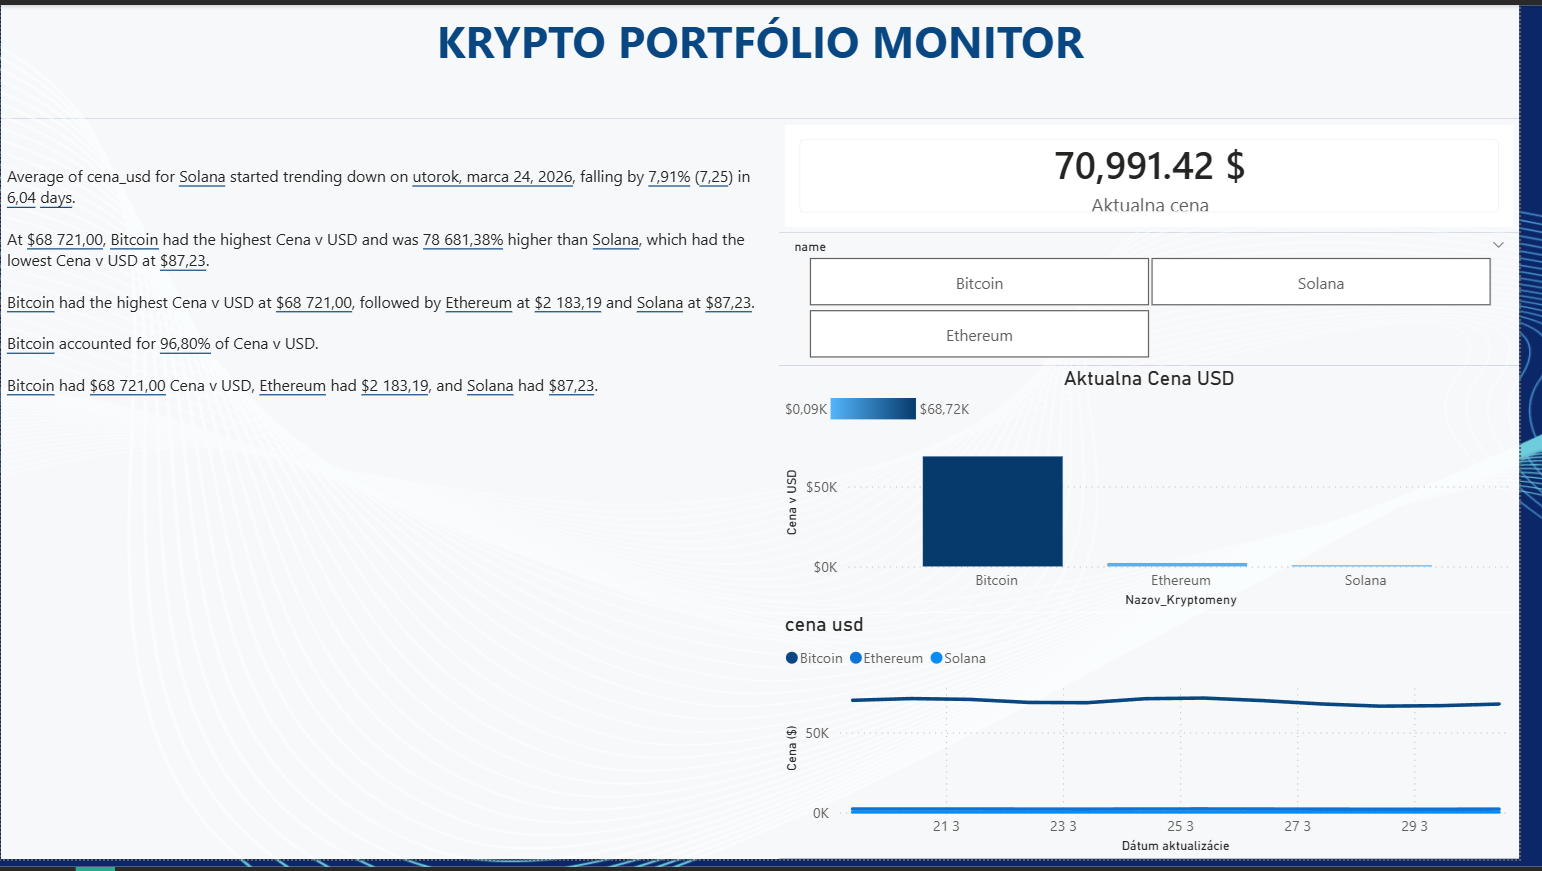

What the dashboard file says about the page in this screenshot:
{"tool":"powerbi","page":{"name":"Page 1","canvas":[1280,720],"ordinal":0},"visuals":[{"type":"clusteredColumnChart","title":"Aktualna Cena USD","fields":{"Category":["vw_gold_aktualne_ceny.Nazov_Kryptomeny"],"Y":["Sum(vw_gold_aktualne_ceny.Aktualna_Cena_USD)"]},"box":[656,304,624,208],"z":0},{"type":"lineChart","title":"cena usd ","fields":{"Y":["Avg(CryptoPrices.cena_usd)"],"Series":["CryptoPrices.name"],"Category":["CryptoPrices.cas_aktualizacie_api"]},"box":[656,512,624,208],"z":1000},{"type":"slicer","fields":{"Values":["CryptoPrices.name"]},"box":[656,192,624,112],"z":2000},{"type":"cardVisual","fields":{"Data":["CryptoPrices.Cena_Text"]},"box":[656,96,624,96],"z":3000},{"type":"textbox","box":[0,0,1280,96],"z":4000},{"type":"textbox","box":[0,96,656,624],"z":5000}]}

Visuals, with their boxes on the page's 1280x720 design canvas (x1, y1, x2, y2). These are canvas units, not pixel positions in the 1542x871 screenshot, which may show the page scaled, cropped or inside an application window:
"Aktualna Cena USD" clusteredColumnChart: rect(656, 304, 1280, 512)
"cena usd " lineChart: rect(656, 512, 1280, 720)
slicer - CryptoPrices.name: rect(656, 192, 1280, 304)
cardVisual - CryptoPrices.Cena_Text: rect(656, 96, 1280, 192)
textbox: rect(0, 0, 1280, 96)
textbox: rect(0, 96, 656, 720)
